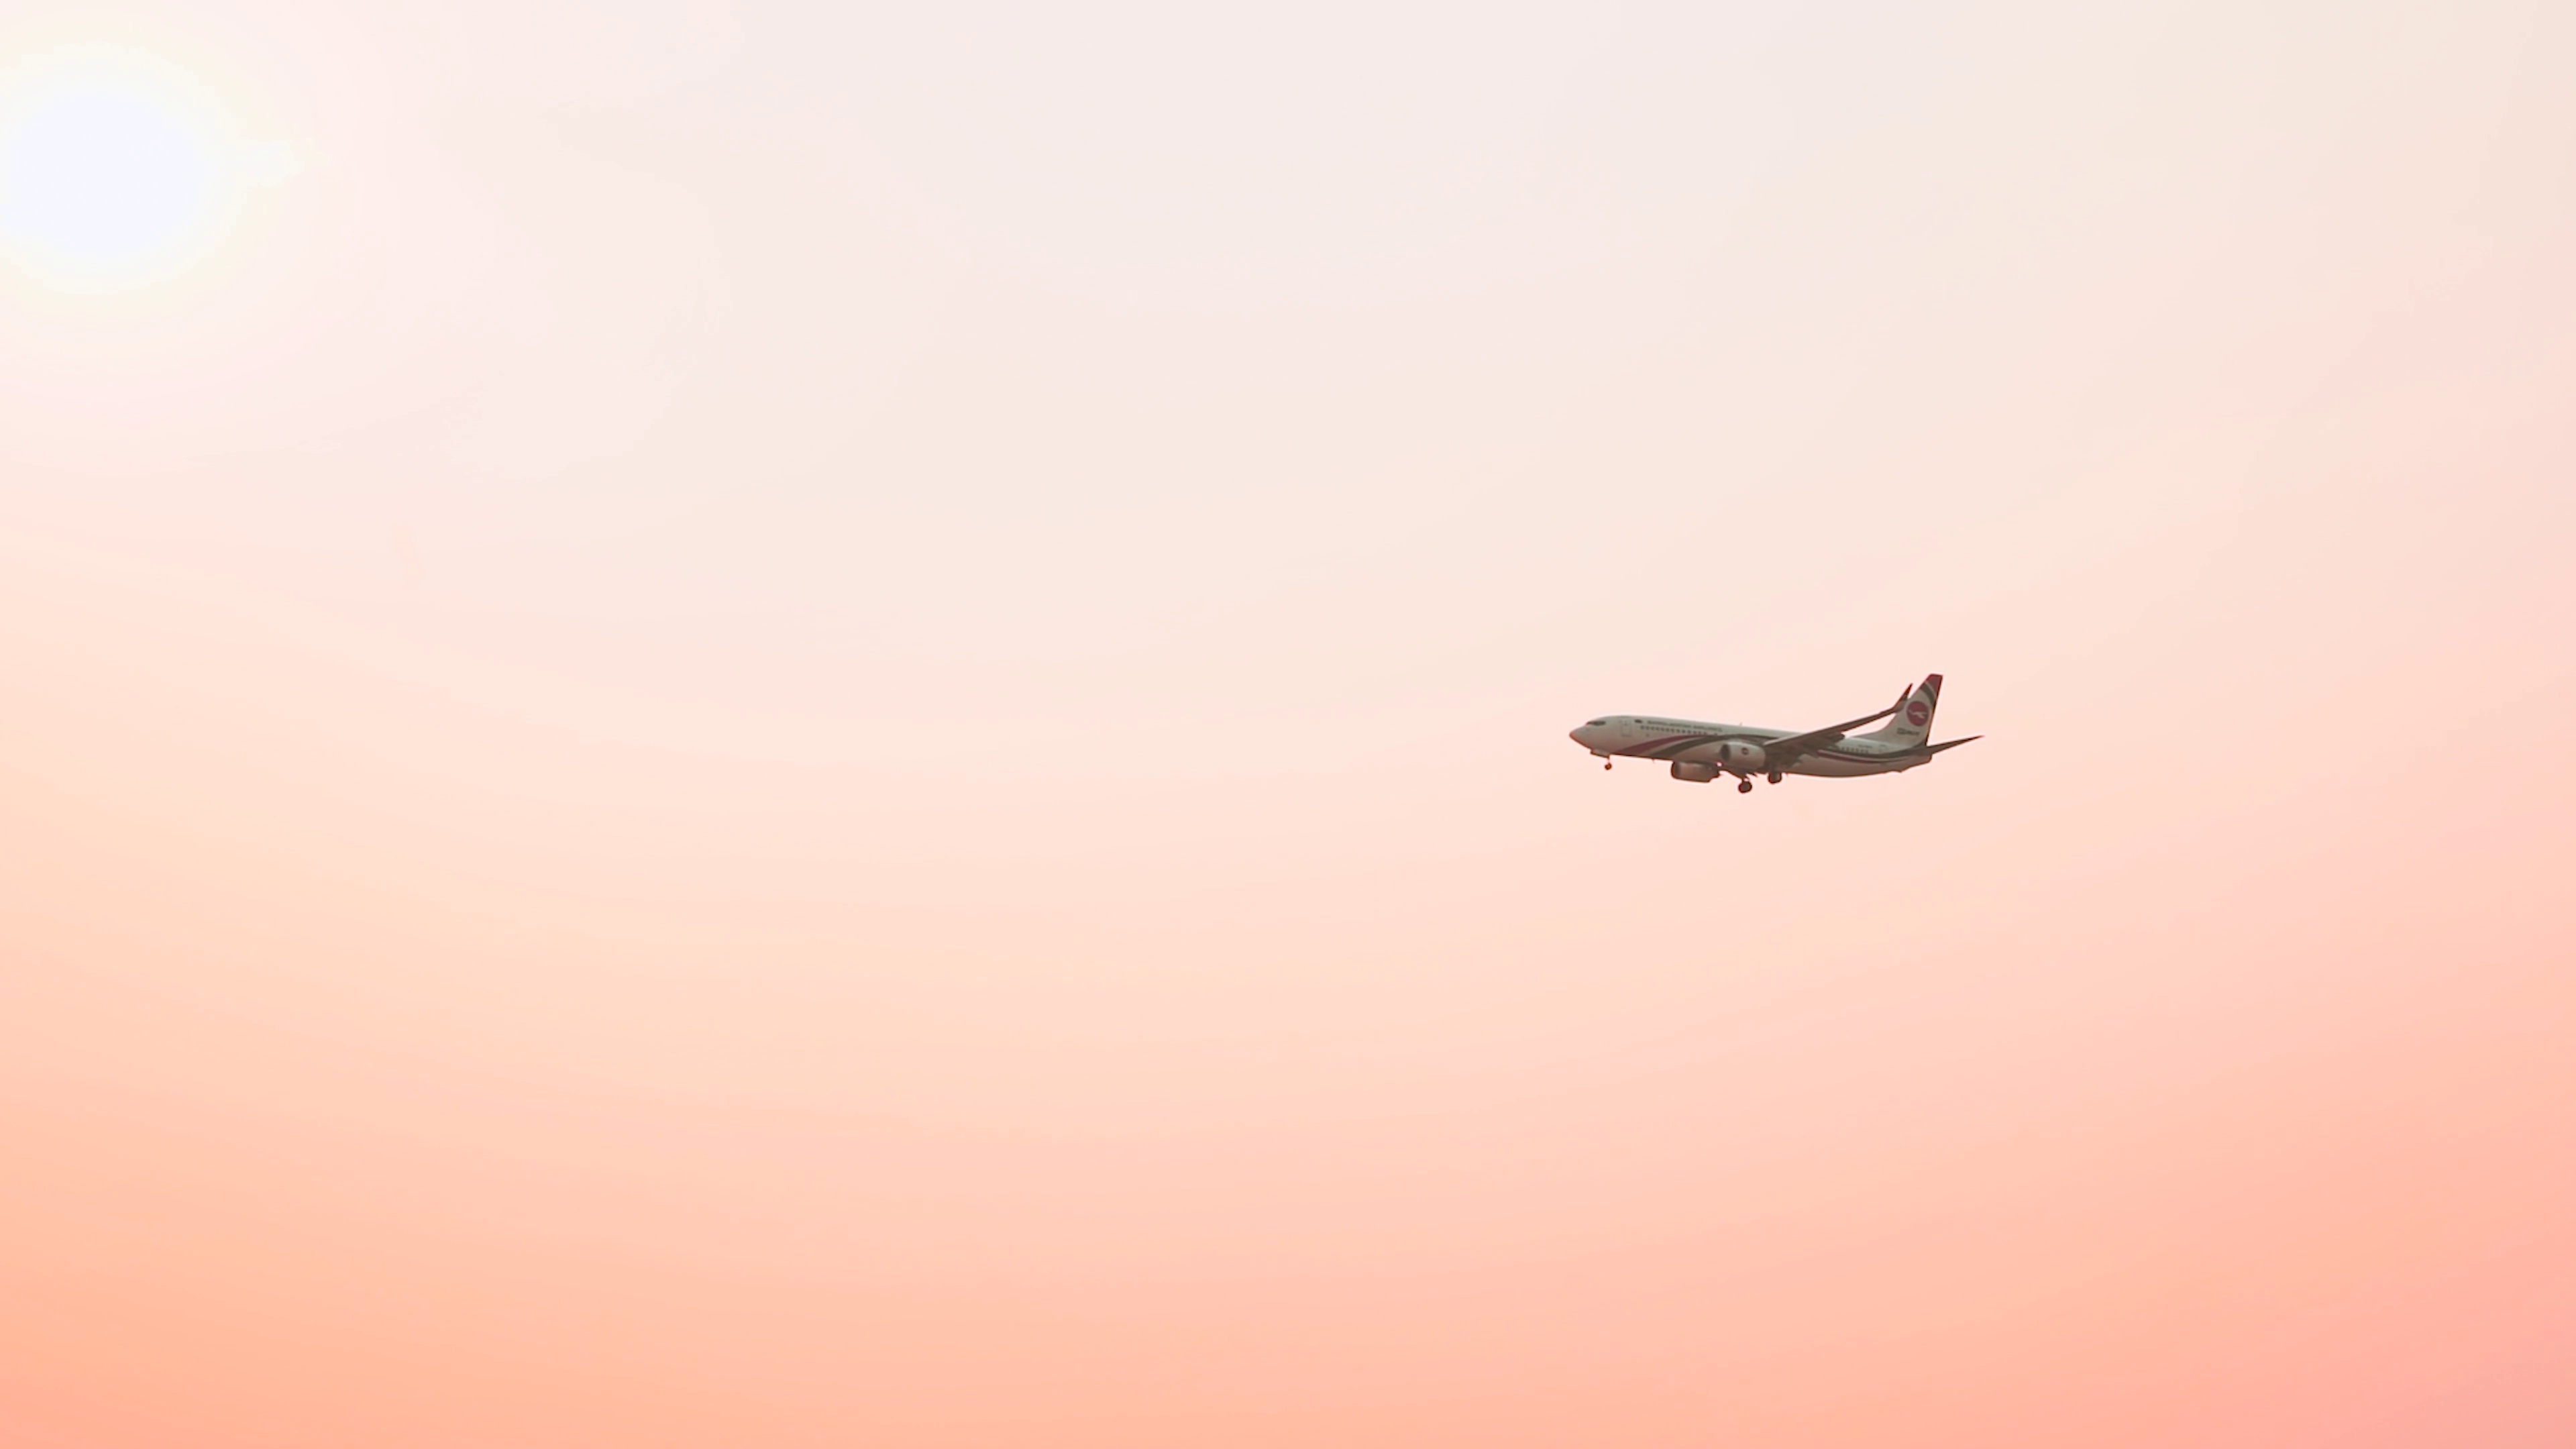plane: (1568, 674, 1985, 794)
